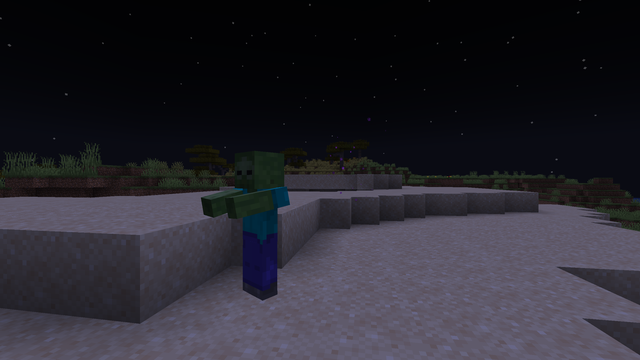zombies: (229, 154, 285, 303)
